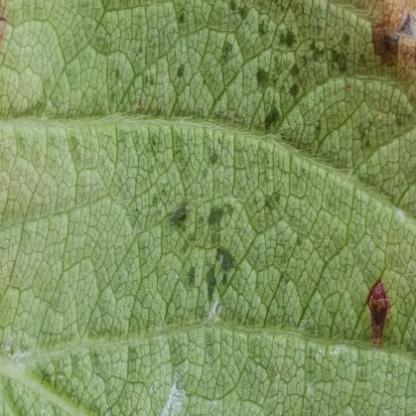Strawberry_Angular_LeafSpot: (64, 0, 415, 356)
